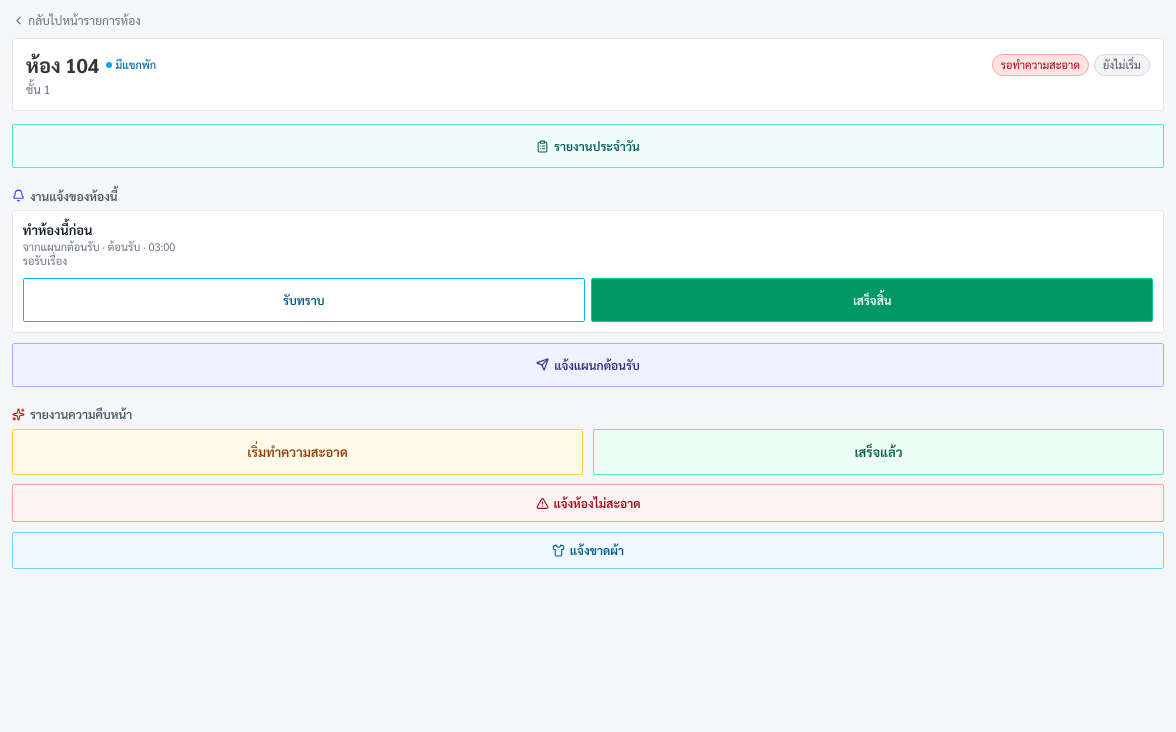
Test: maid — desk→maid signals › keeps the signal and shows the error when the action fails
Expected: the heading "ห้อง 104" is shown, [26,52,99,78]
Click the button "เสร็จสิ้น".
click(872, 300)  # box [591,278,1153,322]
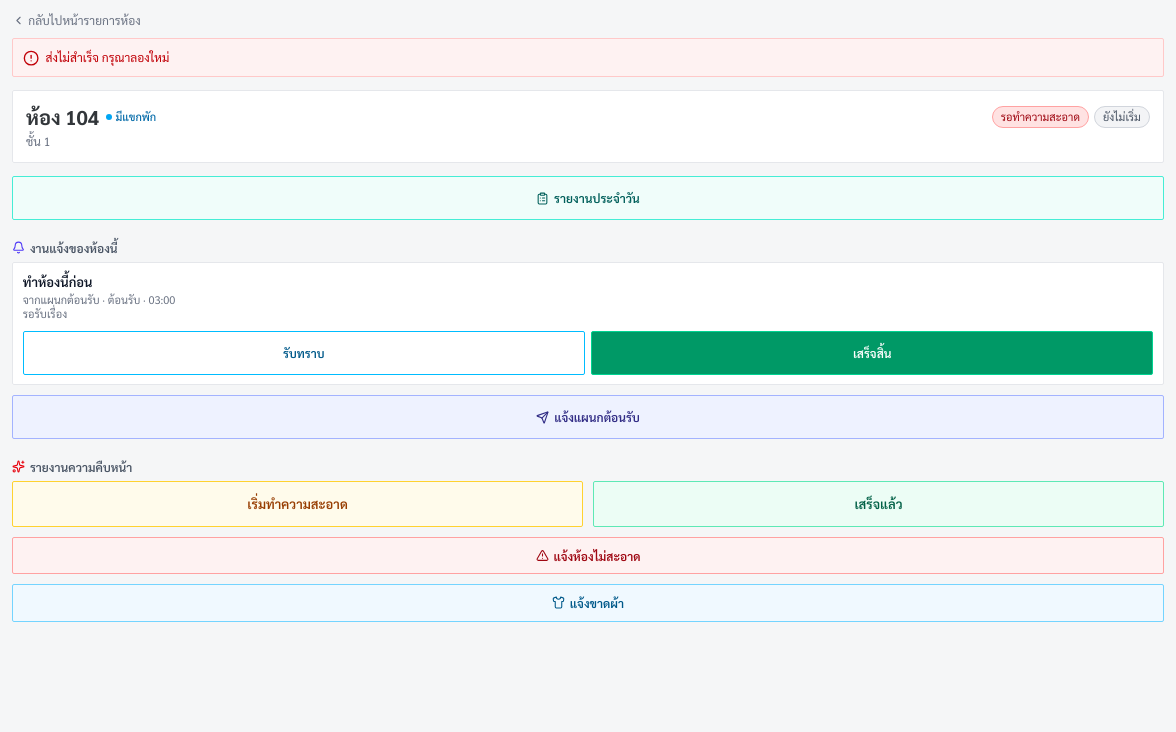
Expected: the list item with test id "hk-signal-1" is shown, [12,262,1164,385]
Result: the text "ส่งไม่สำเร็จ กรุณาลองใหม่" is shown at [46,48,169,64]
